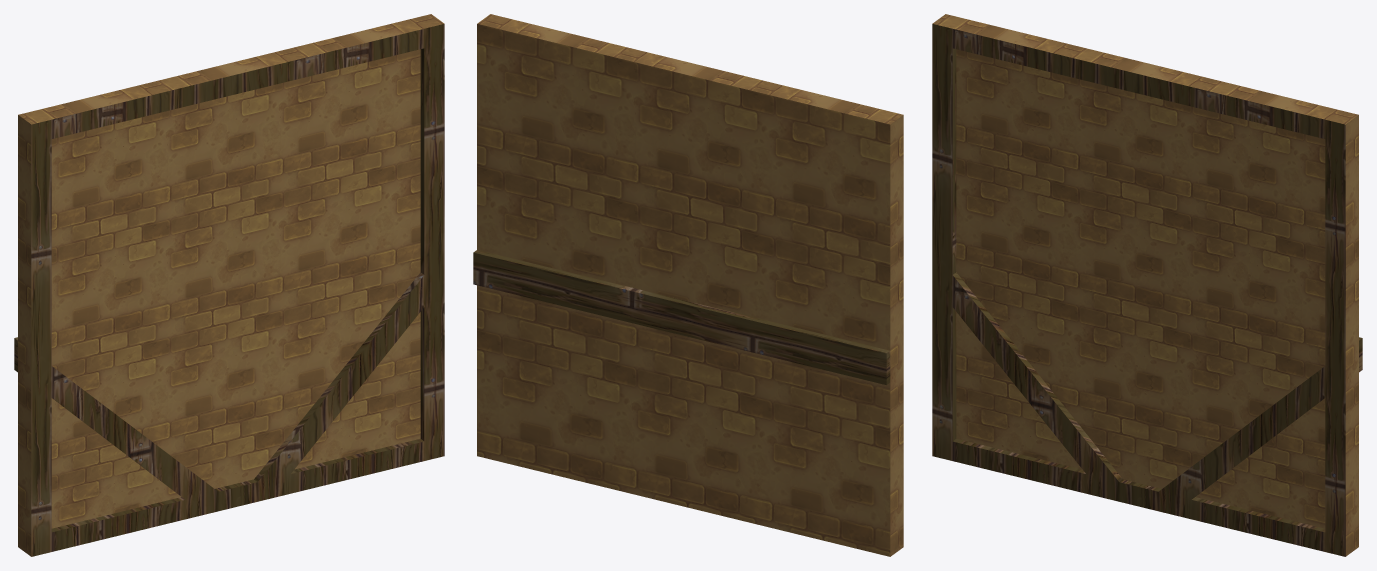
File: wall.fbx
3 views of the same model, side by side, from view 1: azimuth 30°, elevation 25°; view 2: azimuth 150°, elevation 25°; view 3: azimuth 330°, elevation 25° (orthographic).
Visible parts, largest first — view 1: wall; view 2: wall; view 3: wall.
Boxes of the visible parts, bbox=[...] form: wall: bbox=[14, 14, 444, 556]; wall: bbox=[473, 14, 903, 556]; wall: bbox=[932, 14, 1362, 556].
Size of the model in its own units: 250 by 250 by 18.
